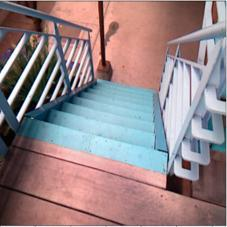Animal: (22, 96, 164, 190)
